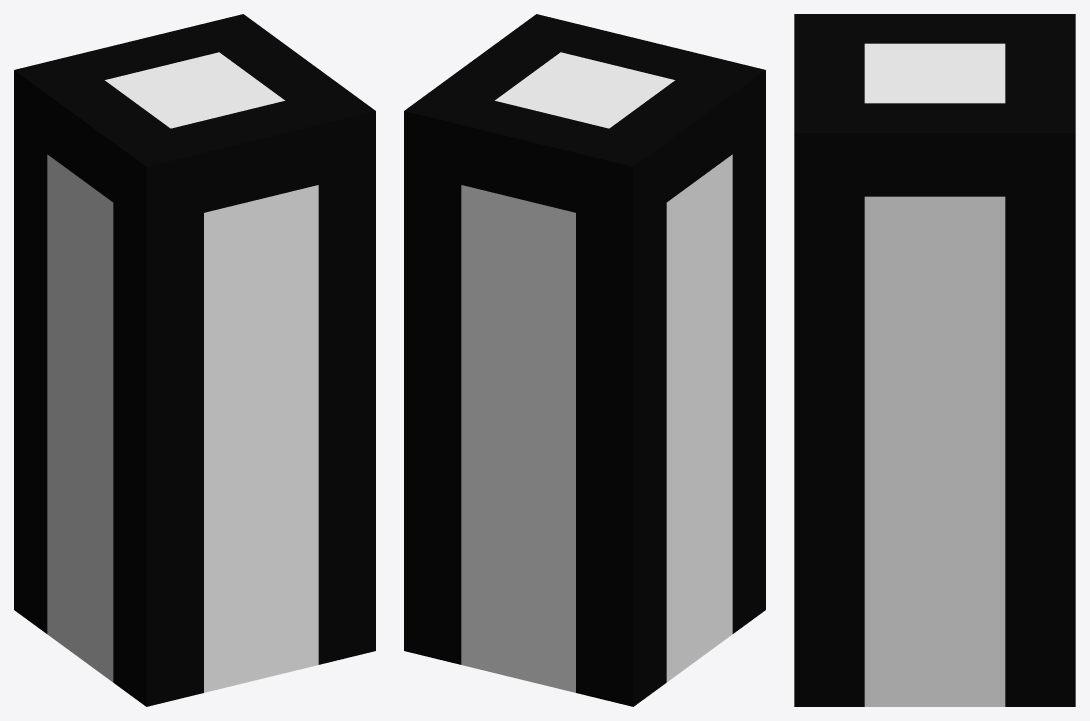
The model's file is UpperLeg.obj.
3 renders of one model, left to right at view 1: azimuth 30°, elevation 25°; view 2: azimuth 150°, elevation 25°; view 3: azimuth 270°, elevation 25°, orthographic. The views are drawn at different scales.
Visible parts, largest first — view 1: UpperLeg; view 2: UpperLeg; view 3: UpperLeg.
Part boxes in pixels (x1,y1,x2,y2): UpperLeg: (14,14,375,706); UpperLeg: (404,14,765,706); UpperLeg: (794,14,1075,706).
Bounding box in the file's own units: 0.4 × 0.9 × 0.4.
1 material, 1 textured.
